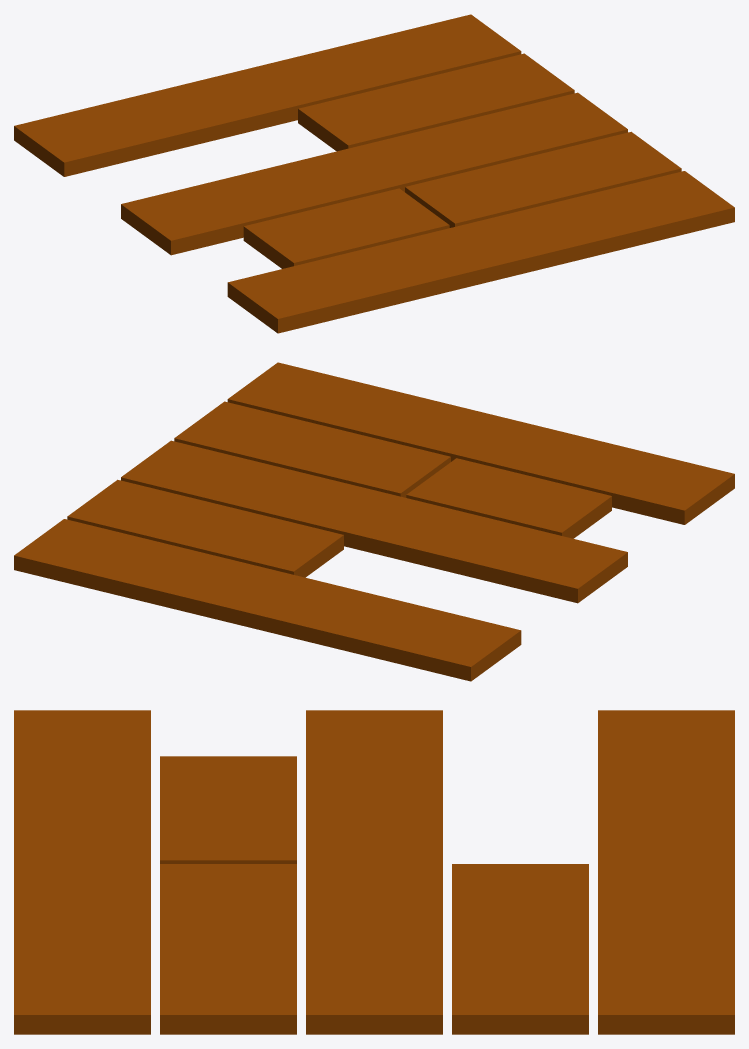
File: RPG_Tiles_Square_Wooden_Boards_12.FBX
The picture shows the model from 3 angles, top to bottom: view 1: azimuth 30°, elevation 25°; view 2: azimuth 150°, elevation 25°; view 3: azimuth 270°, elevation 25°; orthographic projection. The views are drawn at different scales.
Parts seen in each view (by area): view 1: RPG_Tiles_Square_Wooden_Boards_12; view 2: RPG_Tiles_Square_Wooden_Boards_12; view 3: RPG_Tiles_Square_Wooden_Boards_12.
Part boxes in pixels (<box>): RPG_Tiles_Square_Wooden_Boards_12: <box>14,14,734,333</box>; RPG_Tiles_Square_Wooden_Boards_12: <box>14,362,734,681</box>; RPG_Tiles_Square_Wooden_Boards_12: <box>14,710,734,1034</box>.
Bounding box in the file's own units: 2964 × 90 × 2964.
